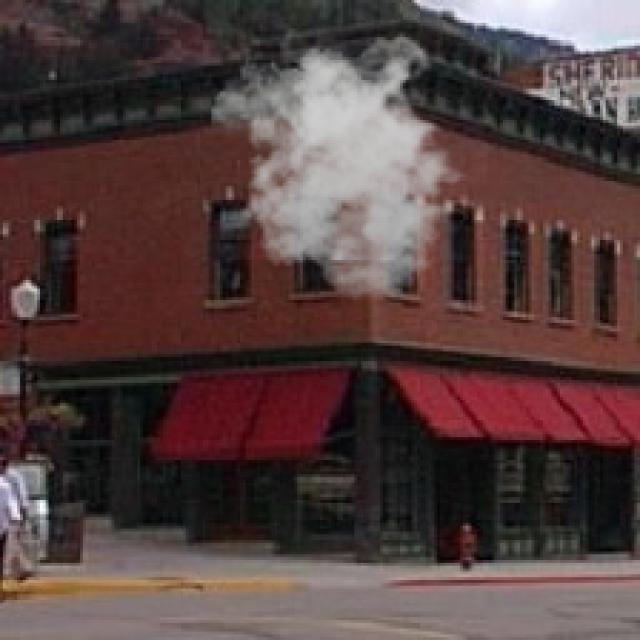Smoke: (212, 28, 477, 300)
